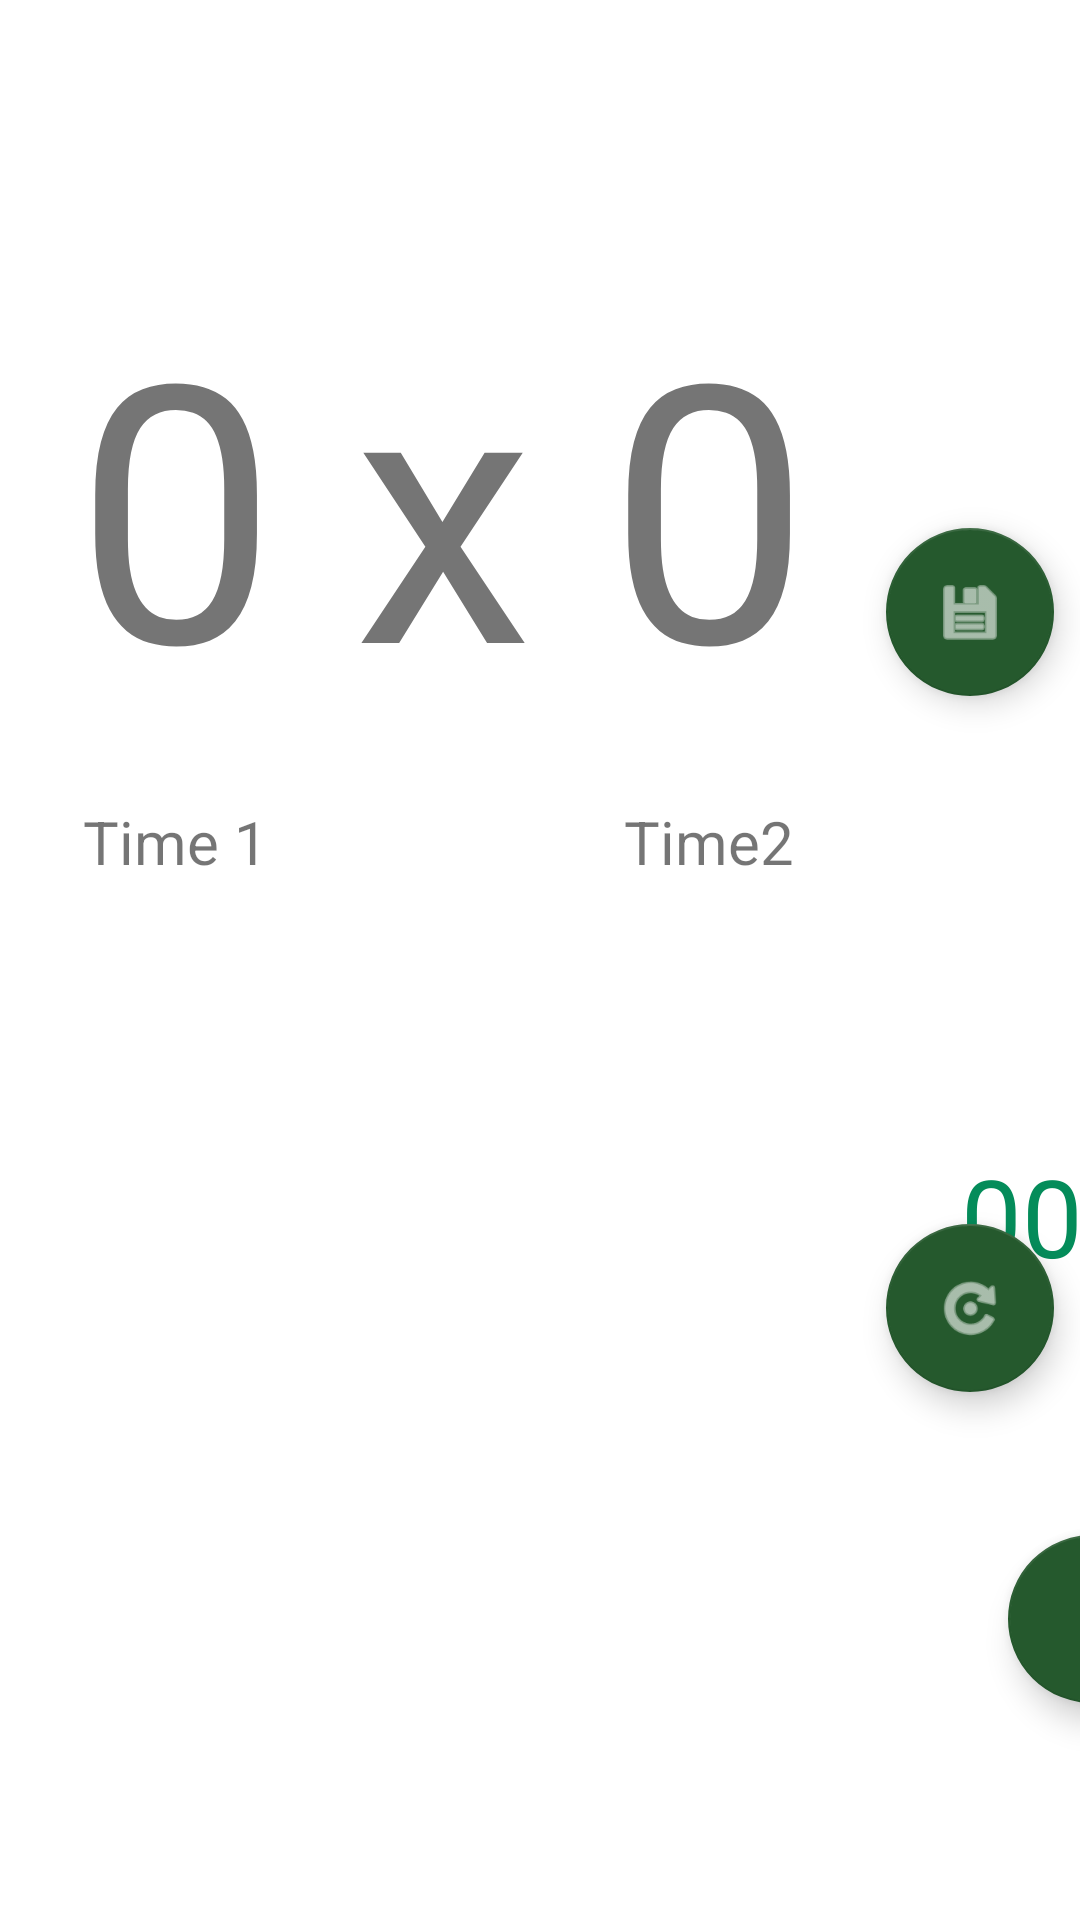

Screen size 1080x1920. Icon name, then its box in pixels as (x1,y1,x2,y2):
rotate: (886,1224,1054,1392)
save: (886,528,1054,696)
